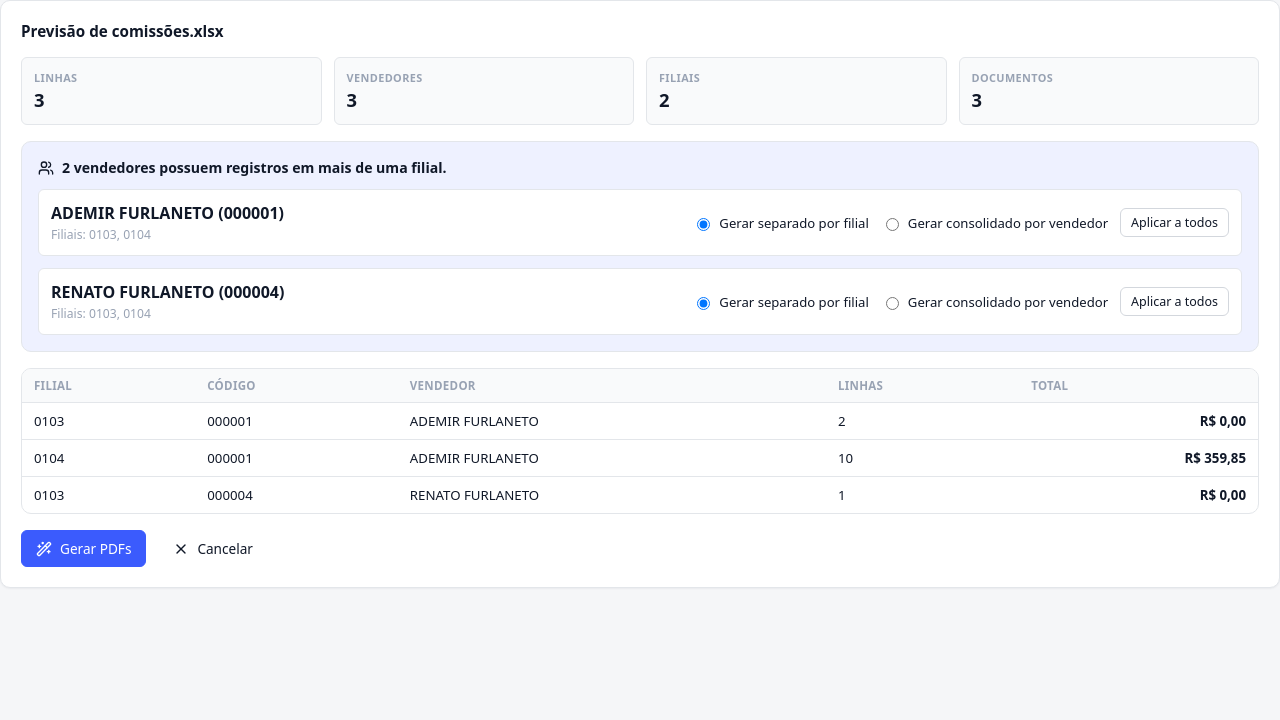
Test: PreviewSummary - acao "Aplicar a todos" › aplica a escolha atualmente selecionada NAQUELA linha a todos os vendedores multi-filial, preservando o restante
This screenshot has width=1280, height=720.
Click the 2nd radio button labelled "Gerar consolidado por vendedor": [892, 303] box left=886, top=296, right=899, bottom=310
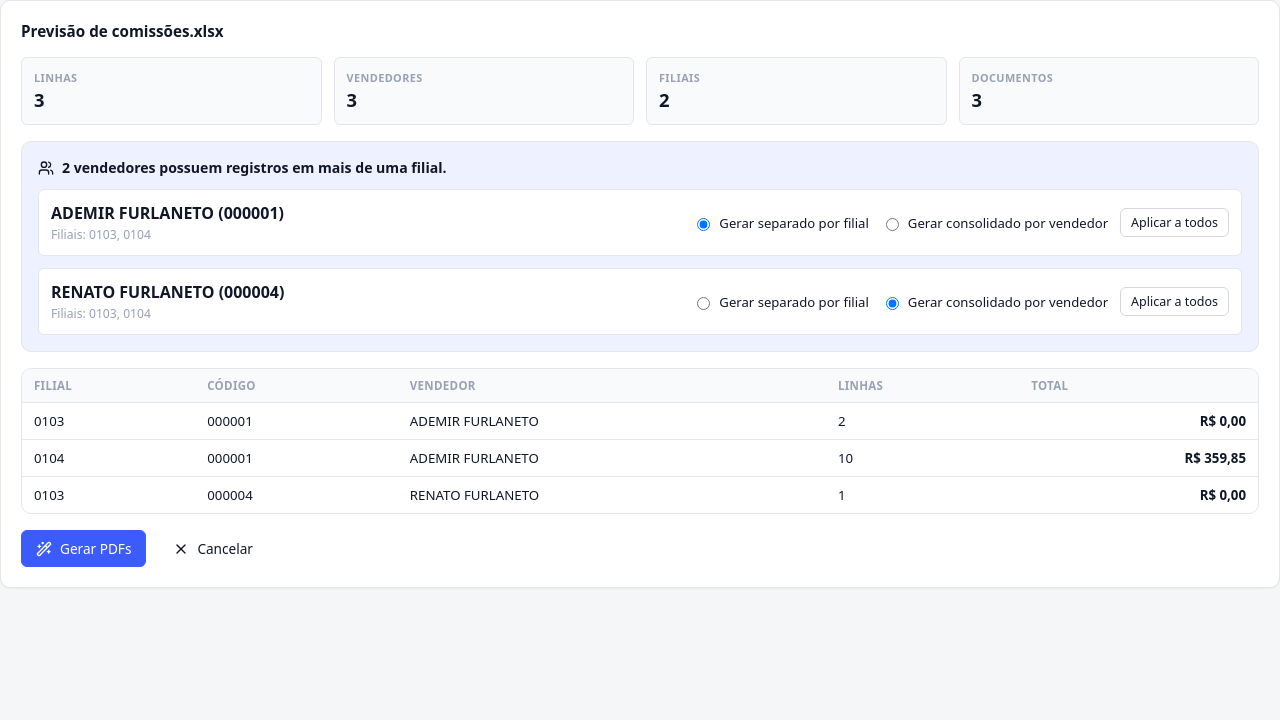
Click the 2nd button "Aplicar a todos": [1175, 302] box left=1120, top=287, right=1229, bottom=316
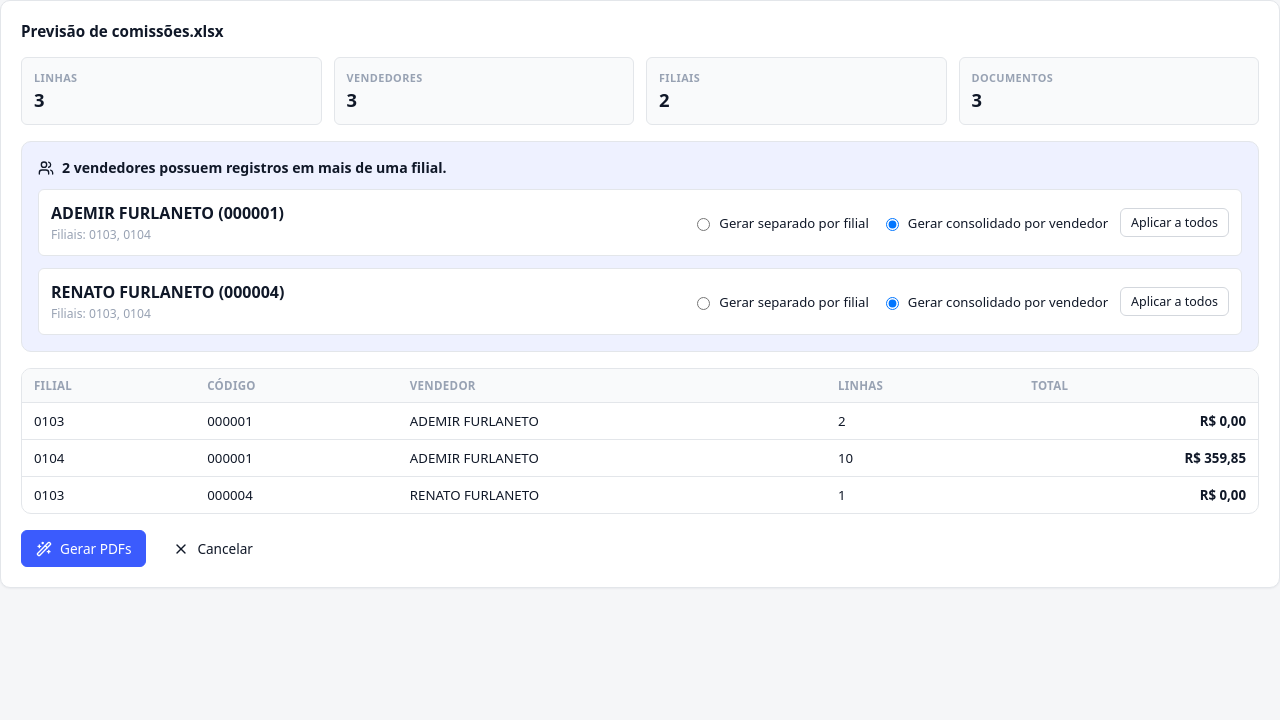
Expected: the 2nd radio button labelled "Gerar consolidado por vendedor" is checked, left=886, top=296, right=899, bottom=310
Expected: the 1st radio button labelled "Gerar consolidado por vendedor" is checked, left=886, top=218, right=899, bottom=230
Expected: the 1st radio button labelled "Gerar separado por filial" is not checked, left=697, top=218, right=710, bottom=230
